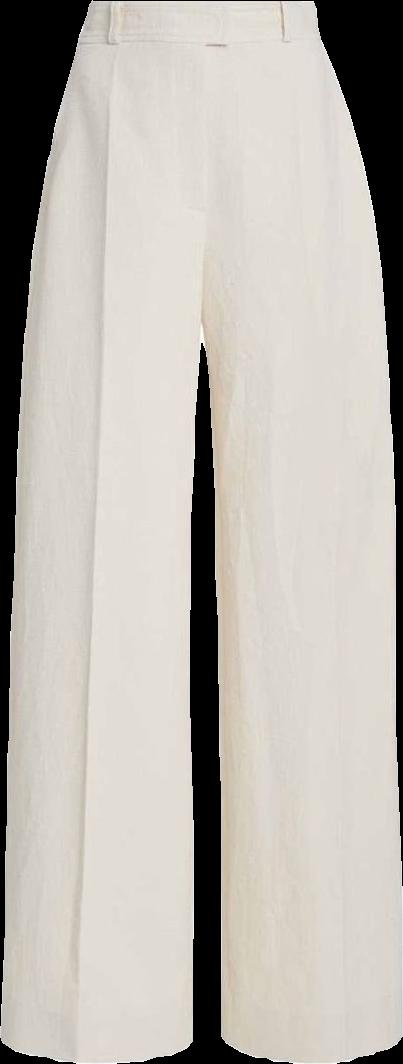Hemline: (0, 1026, 202, 1063), (219, 1028, 402, 1063)
Pantleg: (1, 1, 202, 1062), (202, 2, 402, 1062)
Waistline: (73, 30, 323, 54), (88, 0, 316, 13)
